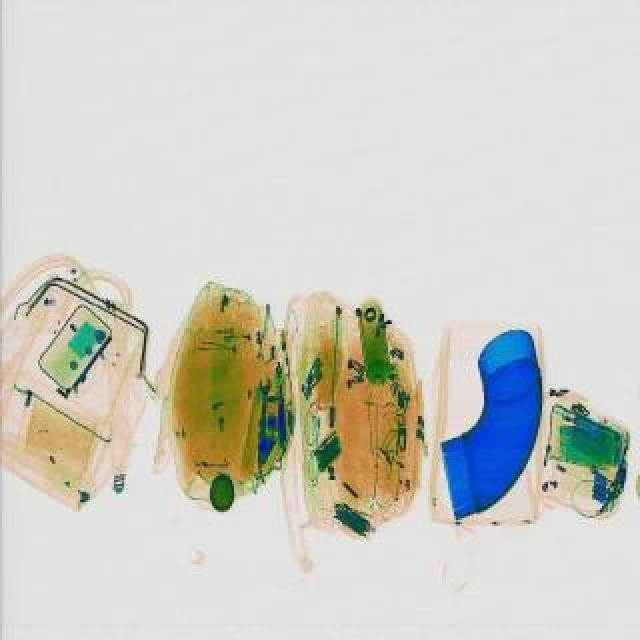scissors: (260, 376, 268, 456)
